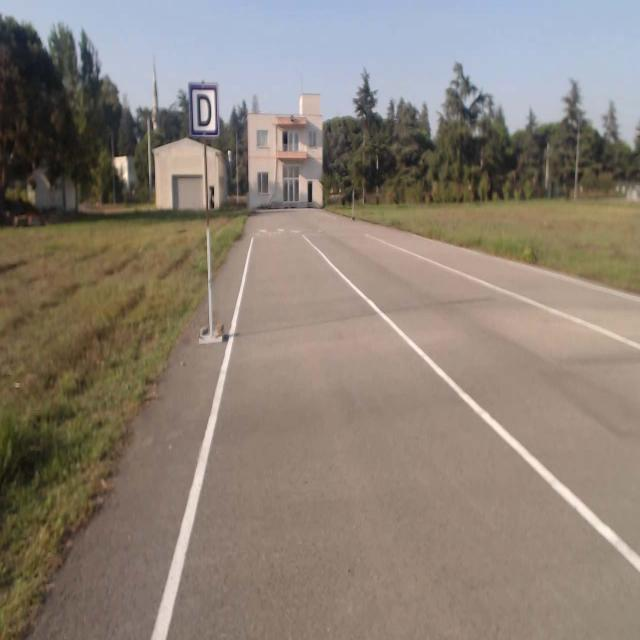durak: (188, 83, 219, 137)
